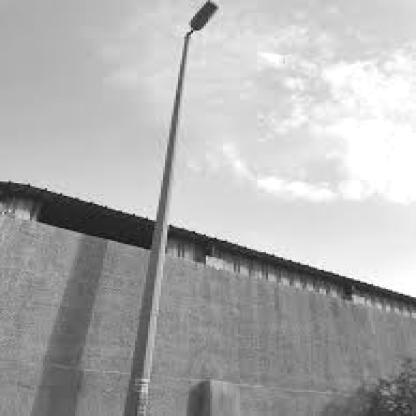light_pole: (120, 2, 217, 415)
